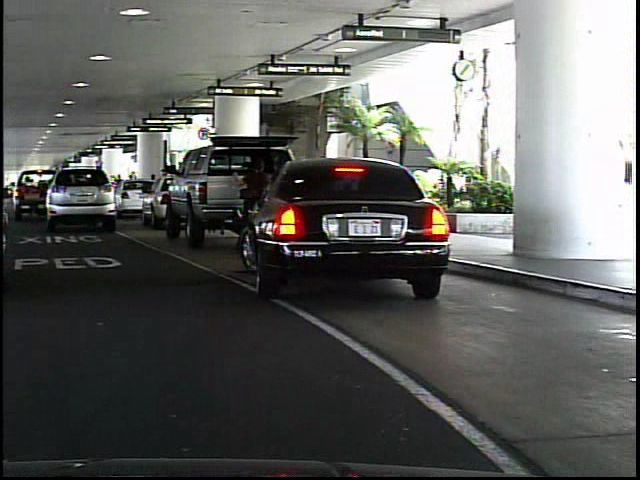person: (229, 150, 280, 254)
